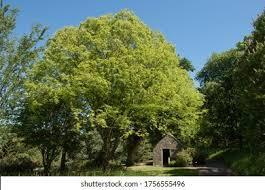tree: (26, 9, 193, 172)
